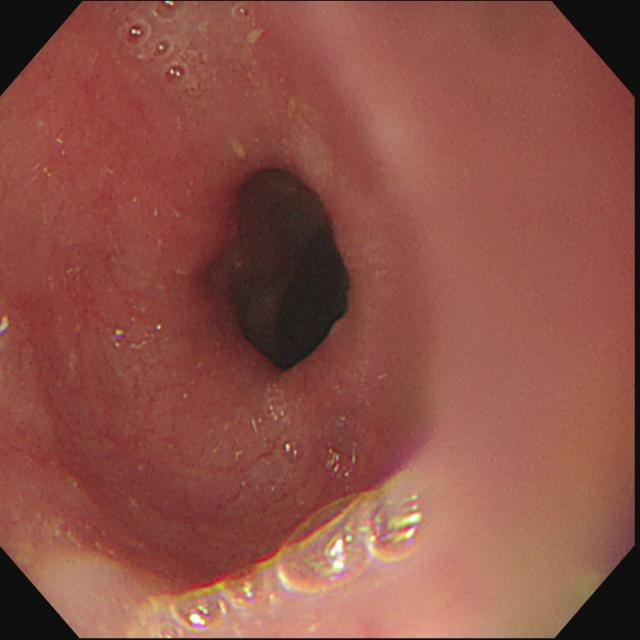E: (196, 156, 367, 390)
T: (168, 490, 435, 635)
